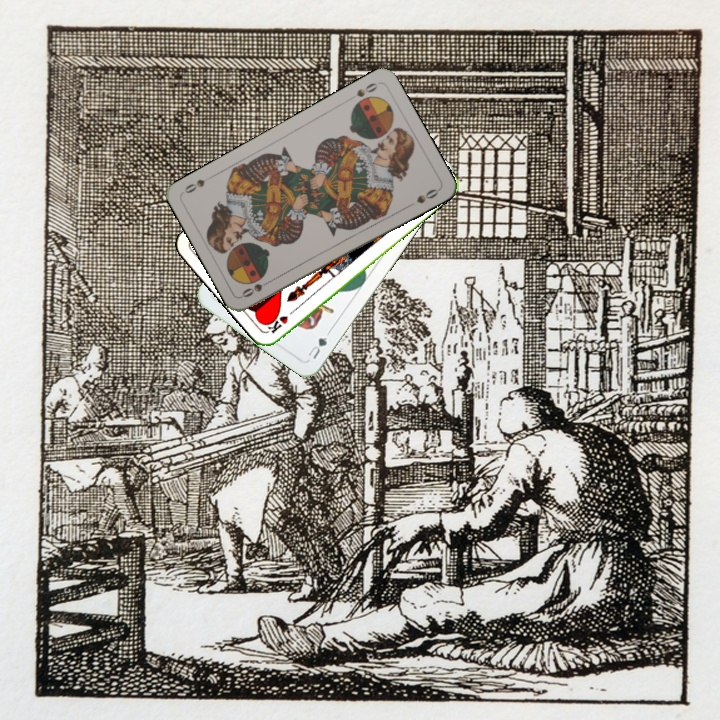GU: (304, 332, 330, 362)
HK: (263, 304, 299, 336)
SO: (237, 275, 276, 300), (353, 78, 382, 100)
